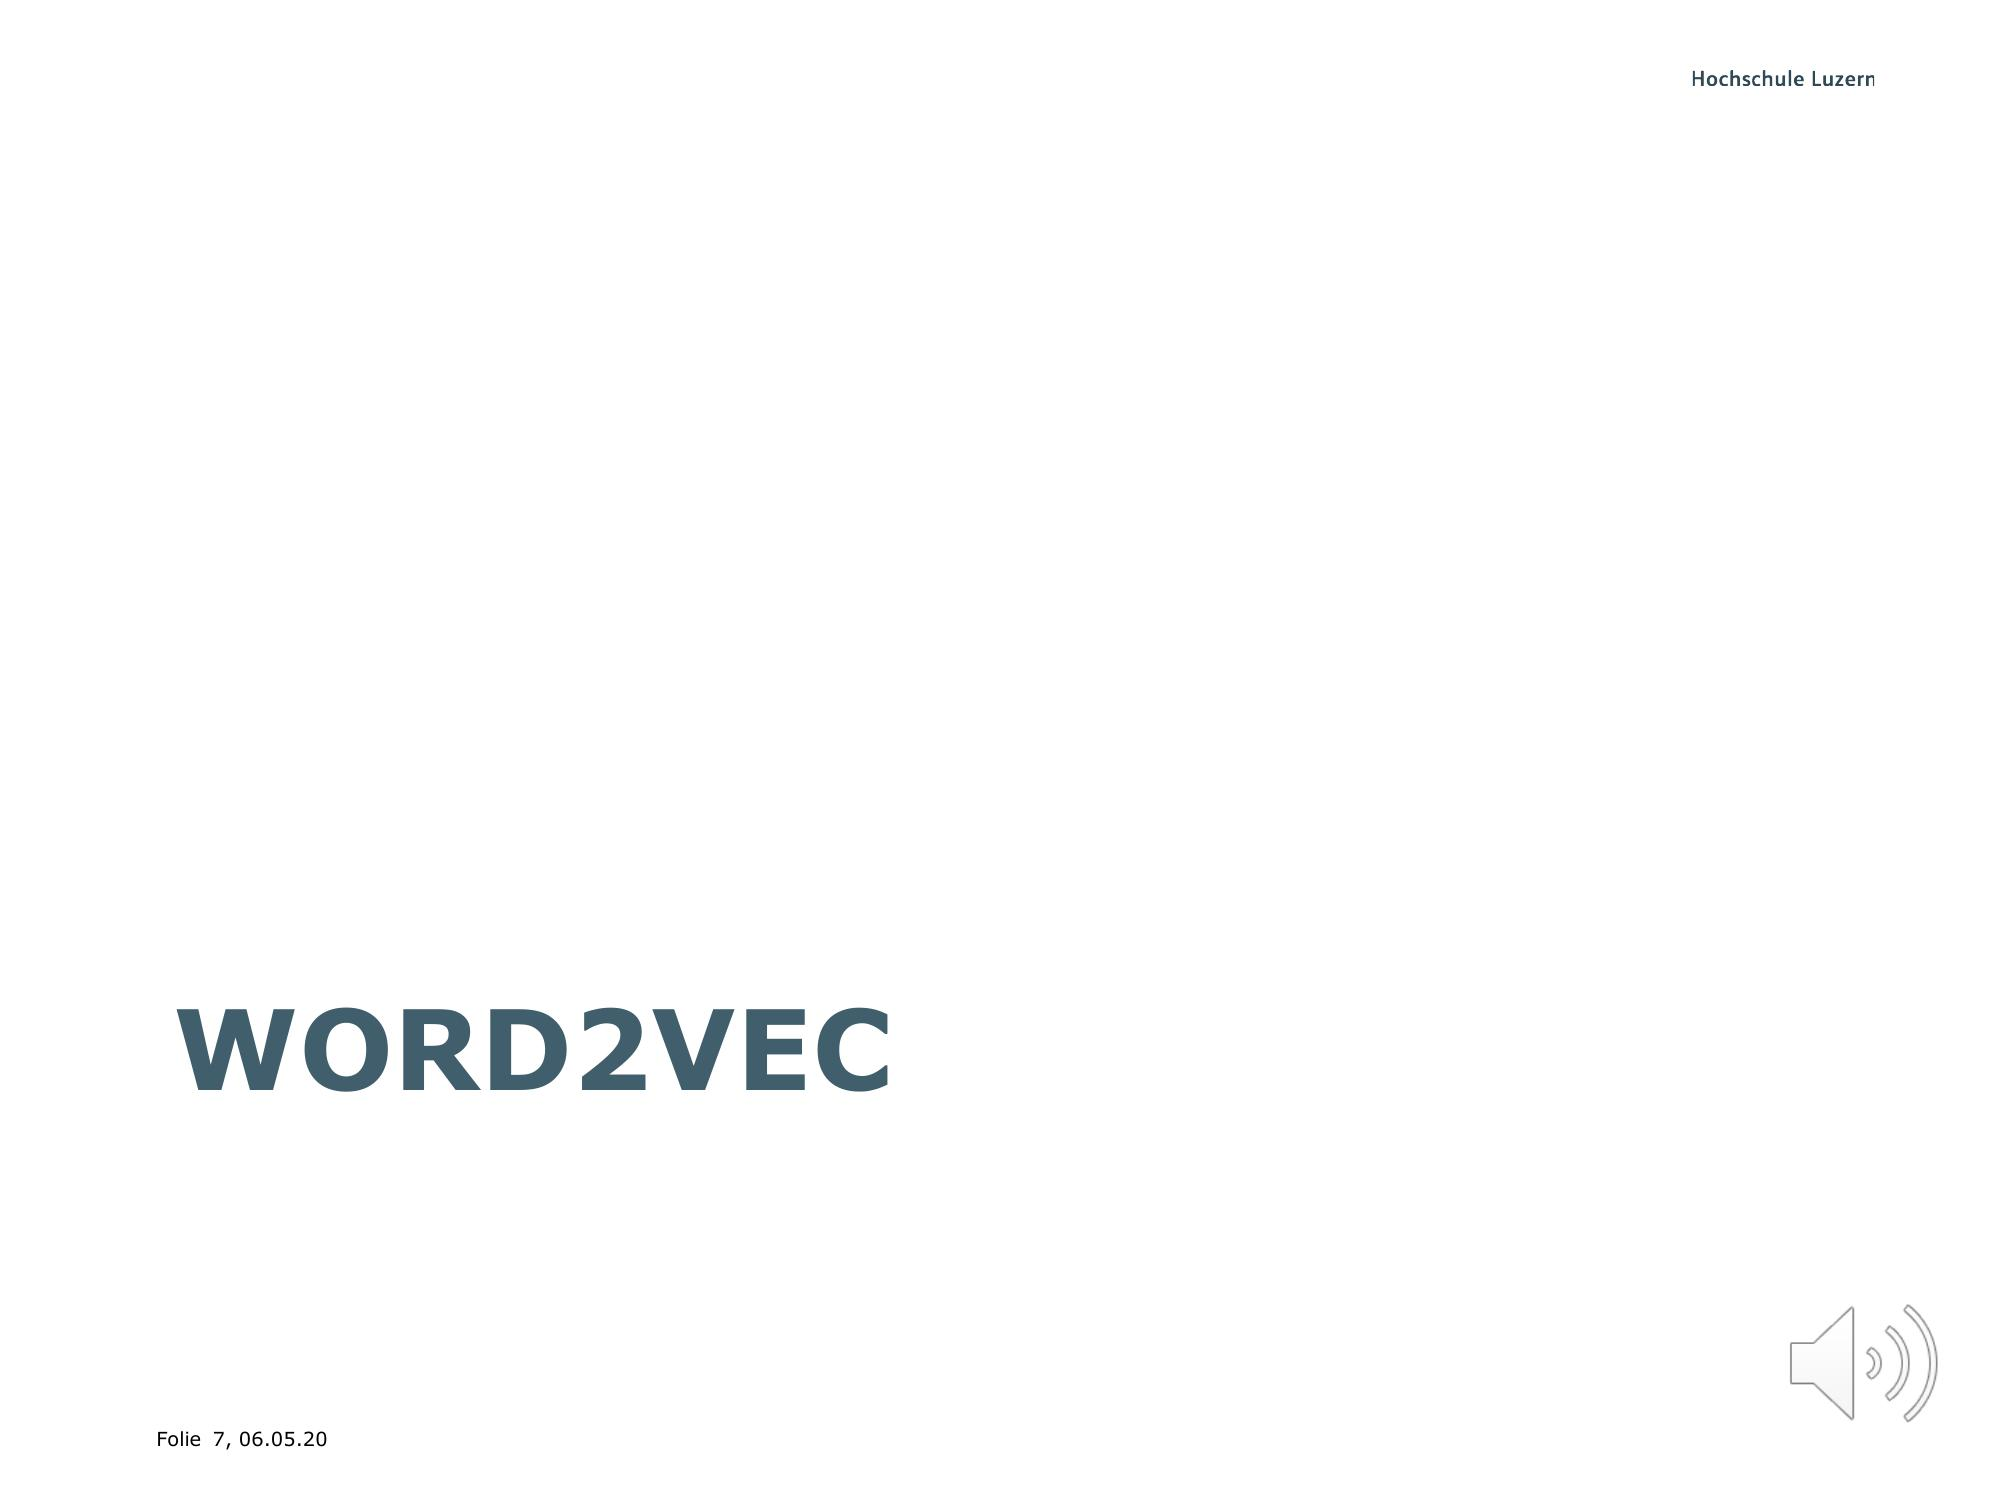Title: (146, 991, 904, 1119)
